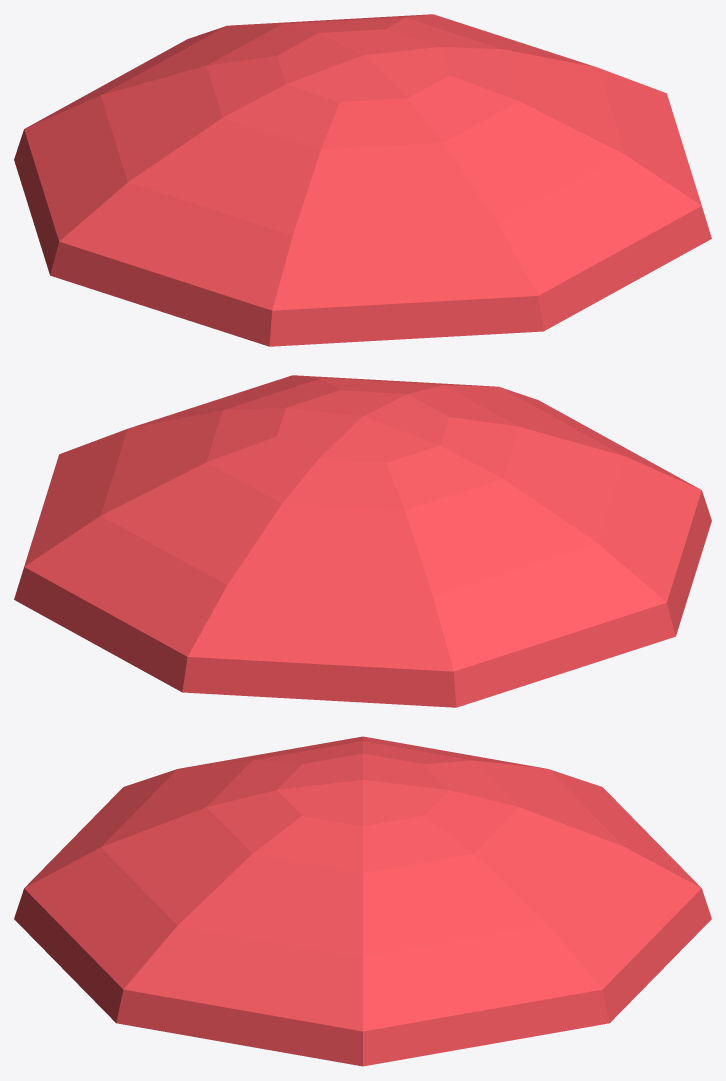
Rendered from Umbrellar.fbx.
3 views of the same model, one above another, from view 1: azimuth 30°, elevation 25°; view 2: azimuth 150°, elevation 25°; view 3: azimuth 270°, elevation 25° (orthographic). The views are drawn at different scales.
Visible parts, largest first — view 1: Umbrallar_Geo; view 2: Umbrallar_Geo; view 3: Umbrallar_Geo.
Part boxes in pixels (box(x1,y1,x2,y2)): Umbrallar_Geo: box(14, 14, 711, 346); Umbrallar_Geo: box(14, 375, 711, 707); Umbrallar_Geo: box(14, 736, 711, 1066).
Size of the model in its own units: 734 by 162 by 734.
